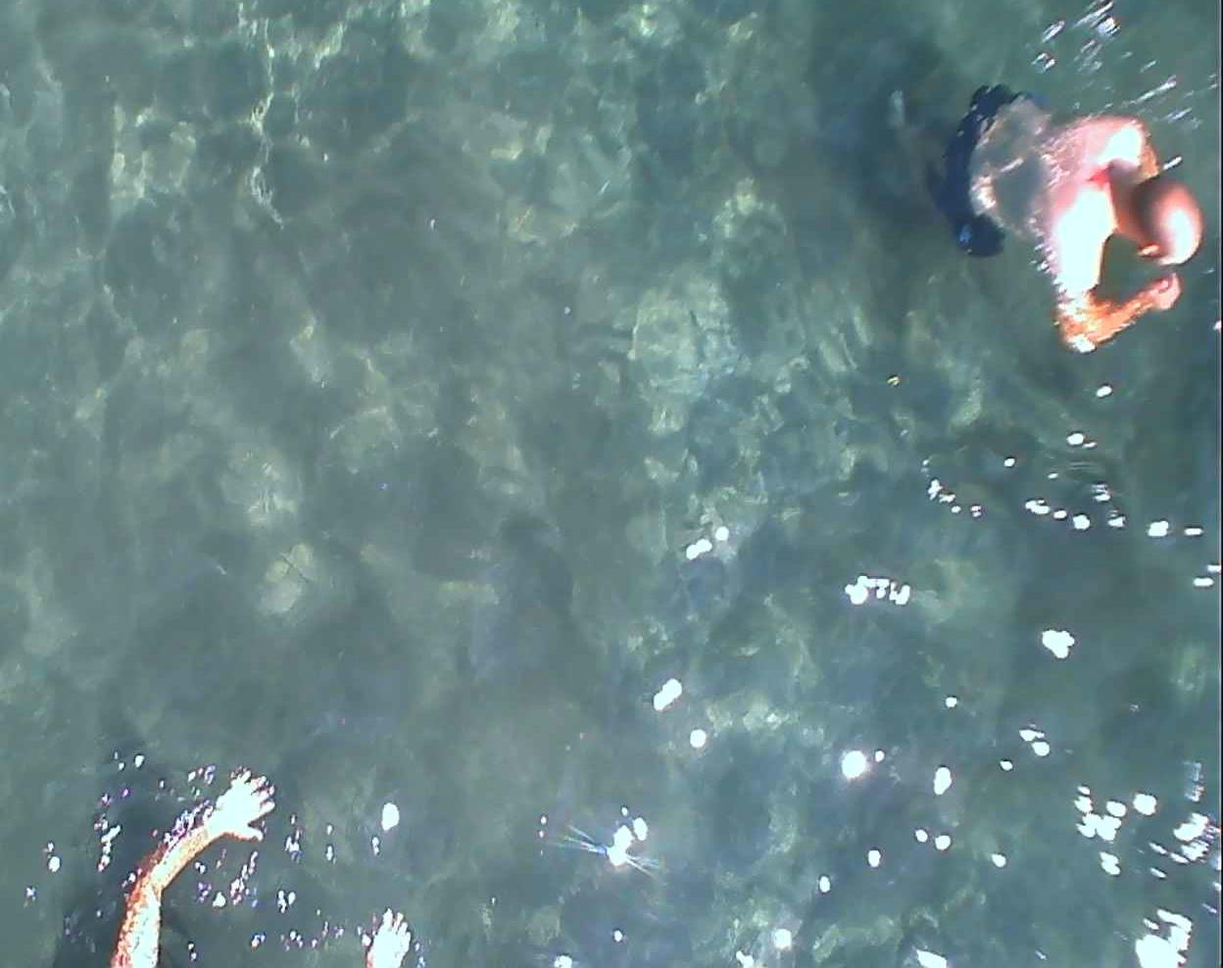swimmer: (973, 55, 1197, 363), (0, 1, 0, 1)
